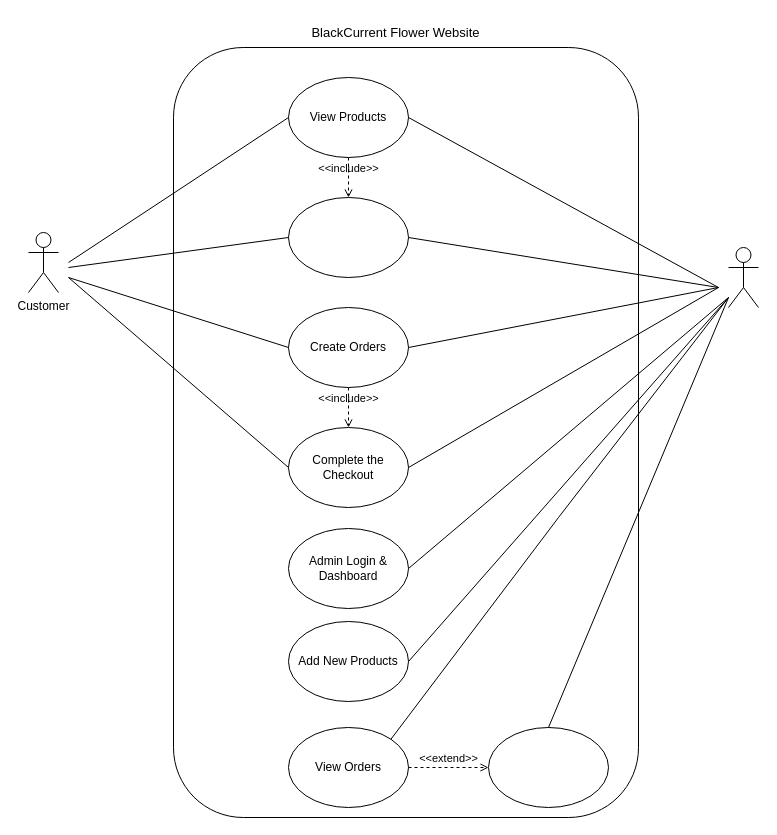
Image size: 777x835. Some labels were removed from this diagram. The box of each missing label's shape, as (x1, y1, x2, y2) in pixels:
Admin: (728, 246, 758, 308)
Search Products: (288, 196, 408, 278)
View Order_items: (488, 726, 608, 808)
